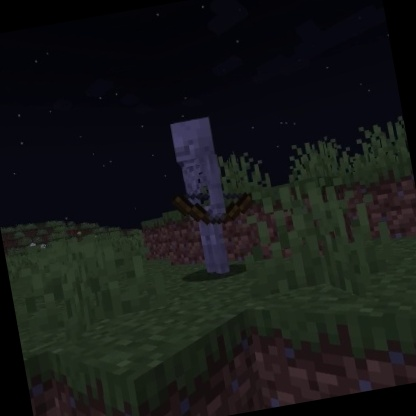skeleton: (153, 106, 268, 285)
